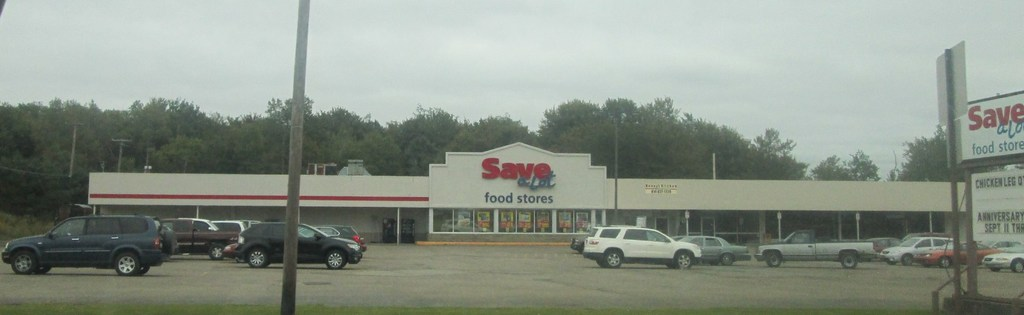car: (2, 198, 186, 295), (567, 213, 706, 279), (232, 211, 371, 276), (745, 219, 885, 278), (683, 224, 758, 267), (915, 237, 990, 273), (874, 235, 948, 267), (981, 245, 1024, 277)
